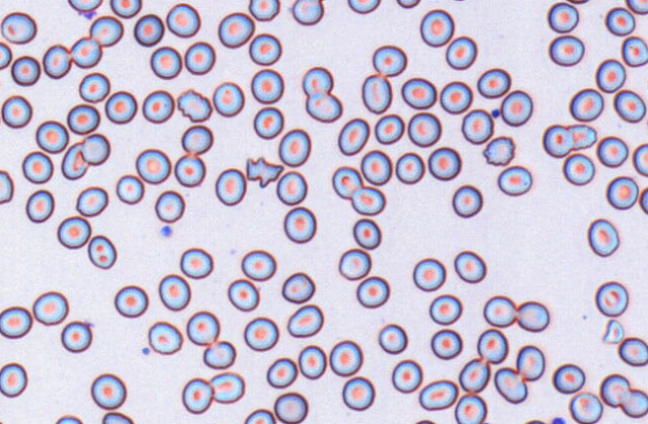PLT: (160, 225, 173, 239), (551, 416, 568, 424), (141, 346, 150, 355)
RBC: (217, 11, 254, 48), (419, 8, 454, 47), (90, 373, 126, 410), (135, 148, 171, 184), (32, 290, 69, 325), (328, 339, 363, 376), (493, 366, 527, 404), (278, 128, 311, 167), (418, 379, 458, 411), (361, 73, 392, 114), (147, 320, 183, 355), (243, 316, 279, 351), (594, 280, 628, 317), (158, 273, 191, 311), (214, 167, 246, 206), (587, 218, 619, 257), (165, 2, 200, 37), (176, 88, 212, 122), (407, 111, 441, 147), (286, 304, 323, 337), (283, 206, 316, 243), (337, 117, 369, 155), (56, 215, 91, 249), (250, 68, 284, 103), (341, 376, 375, 411), (569, 87, 604, 121), (113, 284, 148, 318), (0, 11, 36, 44), (461, 108, 494, 144), (500, 89, 532, 126), (181, 377, 213, 414), (427, 146, 461, 180), (412, 257, 446, 291), (605, 175, 638, 210), (186, 310, 219, 345), (458, 357, 490, 393), (360, 149, 392, 185), (212, 81, 244, 117), (548, 34, 584, 66), (476, 328, 508, 364), (209, 371, 245, 403), (400, 77, 436, 109), (240, 249, 276, 281), (305, 91, 342, 122), (355, 275, 389, 308), (613, 89, 646, 123), (149, 45, 182, 79), (104, 90, 137, 124), (439, 80, 472, 114), (141, 89, 174, 123), (568, 391, 603, 423), (372, 44, 407, 76), (445, 35, 477, 70), (273, 391, 308, 423), (515, 344, 545, 381), (60, 142, 89, 180), (562, 152, 595, 185), (35, 120, 68, 153), (248, 32, 281, 65), (453, 250, 486, 283), (331, 165, 363, 199), (173, 153, 205, 187), (66, 103, 100, 135), (21, 150, 53, 184), (89, 15, 123, 47), (0, 94, 32, 128), (428, 293, 462, 325), (183, 41, 215, 75), (179, 247, 213, 279), (281, 271, 315, 303), (482, 295, 516, 327), (276, 170, 307, 205), (497, 165, 532, 196), (595, 58, 626, 93), (42, 43, 72, 79), (0, 305, 32, 338), (75, 185, 108, 217), (227, 278, 259, 311), (338, 248, 371, 280), (516, 300, 549, 332), (546, 1, 579, 33), (599, 373, 630, 407), (391, 359, 422, 393), (154, 189, 185, 223), (476, 67, 510, 98), (451, 184, 482, 218), (350, 185, 385, 215), (70, 36, 102, 68), (78, 71, 110, 103), (596, 135, 628, 167), (60, 320, 92, 352), (542, 124, 573, 157), (482, 135, 515, 166), (133, 13, 164, 46), (552, 363, 585, 394), (87, 234, 116, 269), (297, 344, 326, 379), (430, 328, 462, 359), (80, 132, 110, 165), (454, 393, 487, 423), (395, 151, 425, 184), (253, 106, 283, 139), (202, 340, 236, 369), (25, 189, 54, 223), (266, 357, 297, 388), (181, 124, 213, 154), (0, 362, 27, 397), (374, 113, 404, 144), (10, 55, 40, 86), (604, 6, 635, 36), (301, 66, 333, 95), (617, 336, 647, 366), (352, 218, 381, 249), (378, 323, 407, 354), (115, 174, 144, 204), (619, 388, 647, 418), (621, 35, 647, 67), (567, 123, 597, 150), (291, 0, 323, 25), (248, 0, 280, 21), (109, 0, 141, 18), (632, 142, 647, 176), (0, 169, 14, 204), (243, 408, 275, 423), (347, 0, 380, 14), (67, 0, 103, 12), (101, 411, 134, 423), (0, 41, 12, 70), (625, 0, 648, 14), (54, 414, 83, 424), (639, 186, 647, 214), (395, 0, 421, 8), (413, 418, 436, 424), (522, 418, 546, 423), (644, 64, 648, 93), (565, 0, 590, 4), (444, 0, 472, 1)
Schistocyte: (245, 154, 284, 191), (602, 318, 624, 344)
